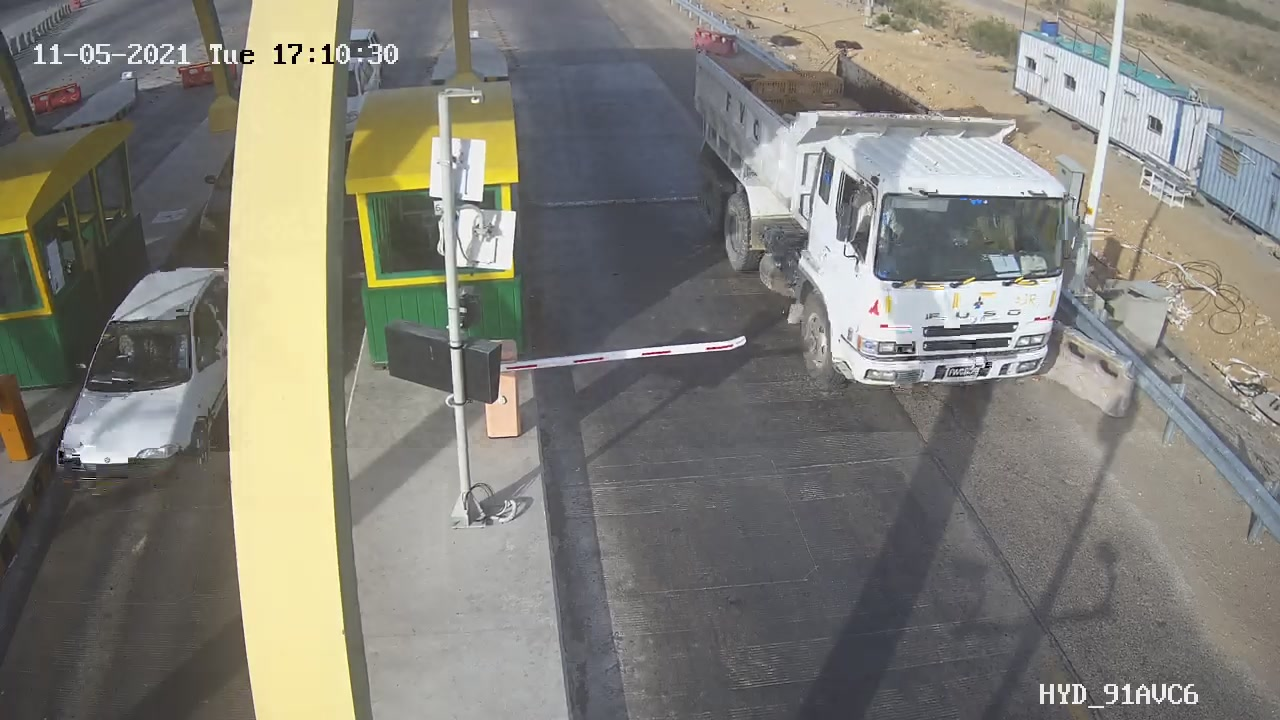F5: (677, 18, 1101, 421)
